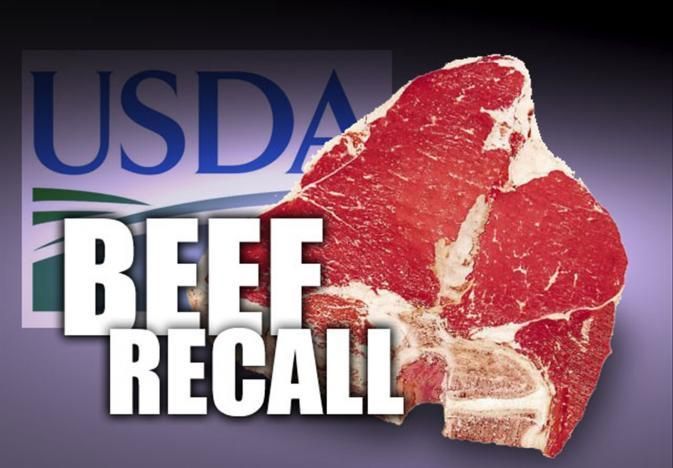ground_beef: (298, 93, 584, 425)
